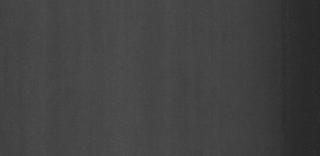silk spot: (186, 81, 228, 114)
